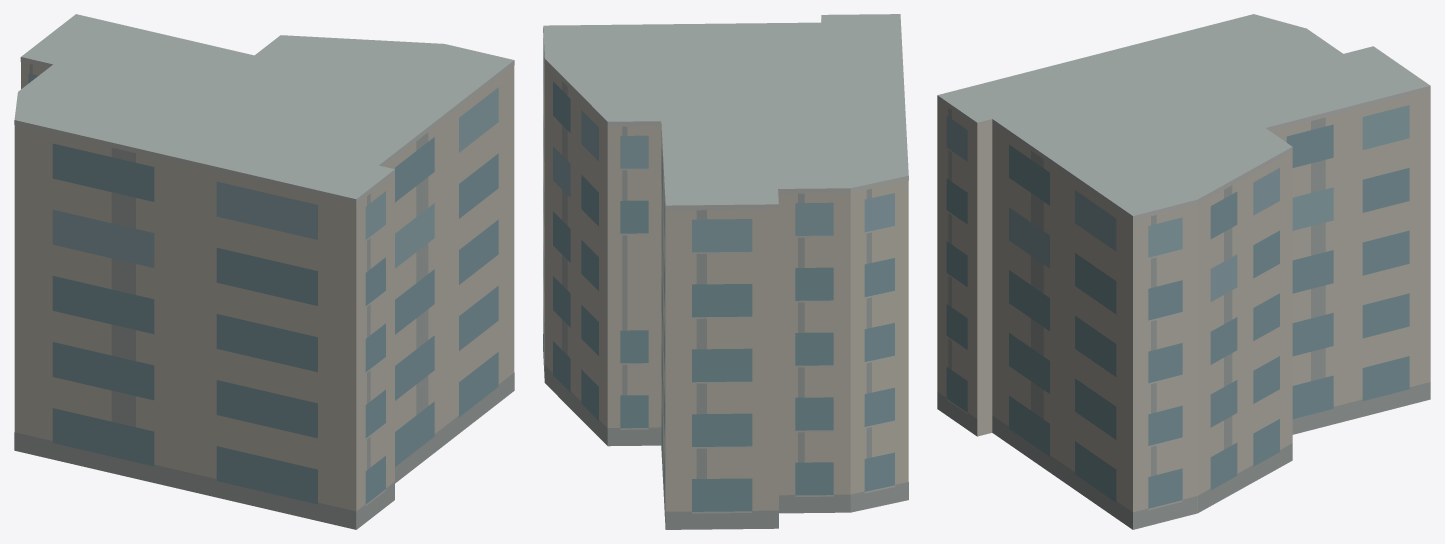
The model's file is survey-upis-32591519.glb.
3 views of the same model, side by side, from view 1: azimuth 30°, elevation 25°; view 2: azimuth 150°, elevation 25°; view 3: azimuth 270°, elevation 25° (orthographic). The views are drawn at different scales.
Parts seen in each view (by area): view 1: survey-upis-32591519.tmp; view 2: survey-upis-32591519.tmp; view 3: survey-upis-32591519.tmp.
Boxes of the visible parts, <box> form: survey-upis-32591519.tmp: <box>14,14,514,529</box>; survey-upis-32591519.tmp: <box>543,14,908,529</box>; survey-upis-32591519.tmp: <box>937,14,1430,529</box>.
Bounding box in the file's own units: 21.83 × 15.8 × 22.52.
